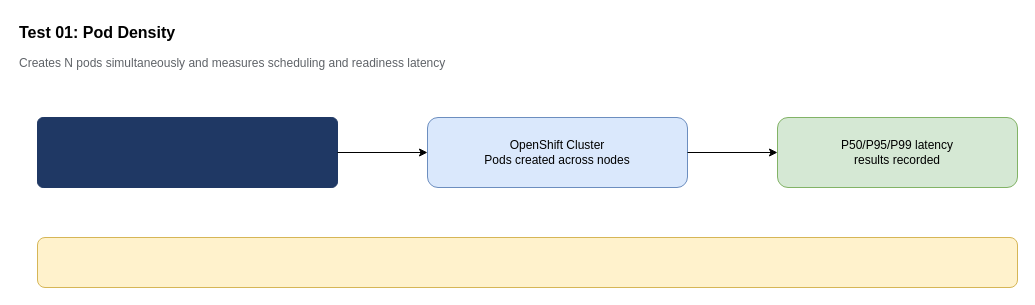
Some shapes in this 1035 by 305 pixel diagram are drawn without their labels. The shapes that lost their labels are listed below. From the top down, each one's centre as x and y in pixels, then its label:
point 187,152: kube-burner Job (quay.io/kube-burner/kube-burner:v2.6.1)
point 527,262: 📊 Measures: PodScheduled · ContainersReady · Ready latency percentiles
